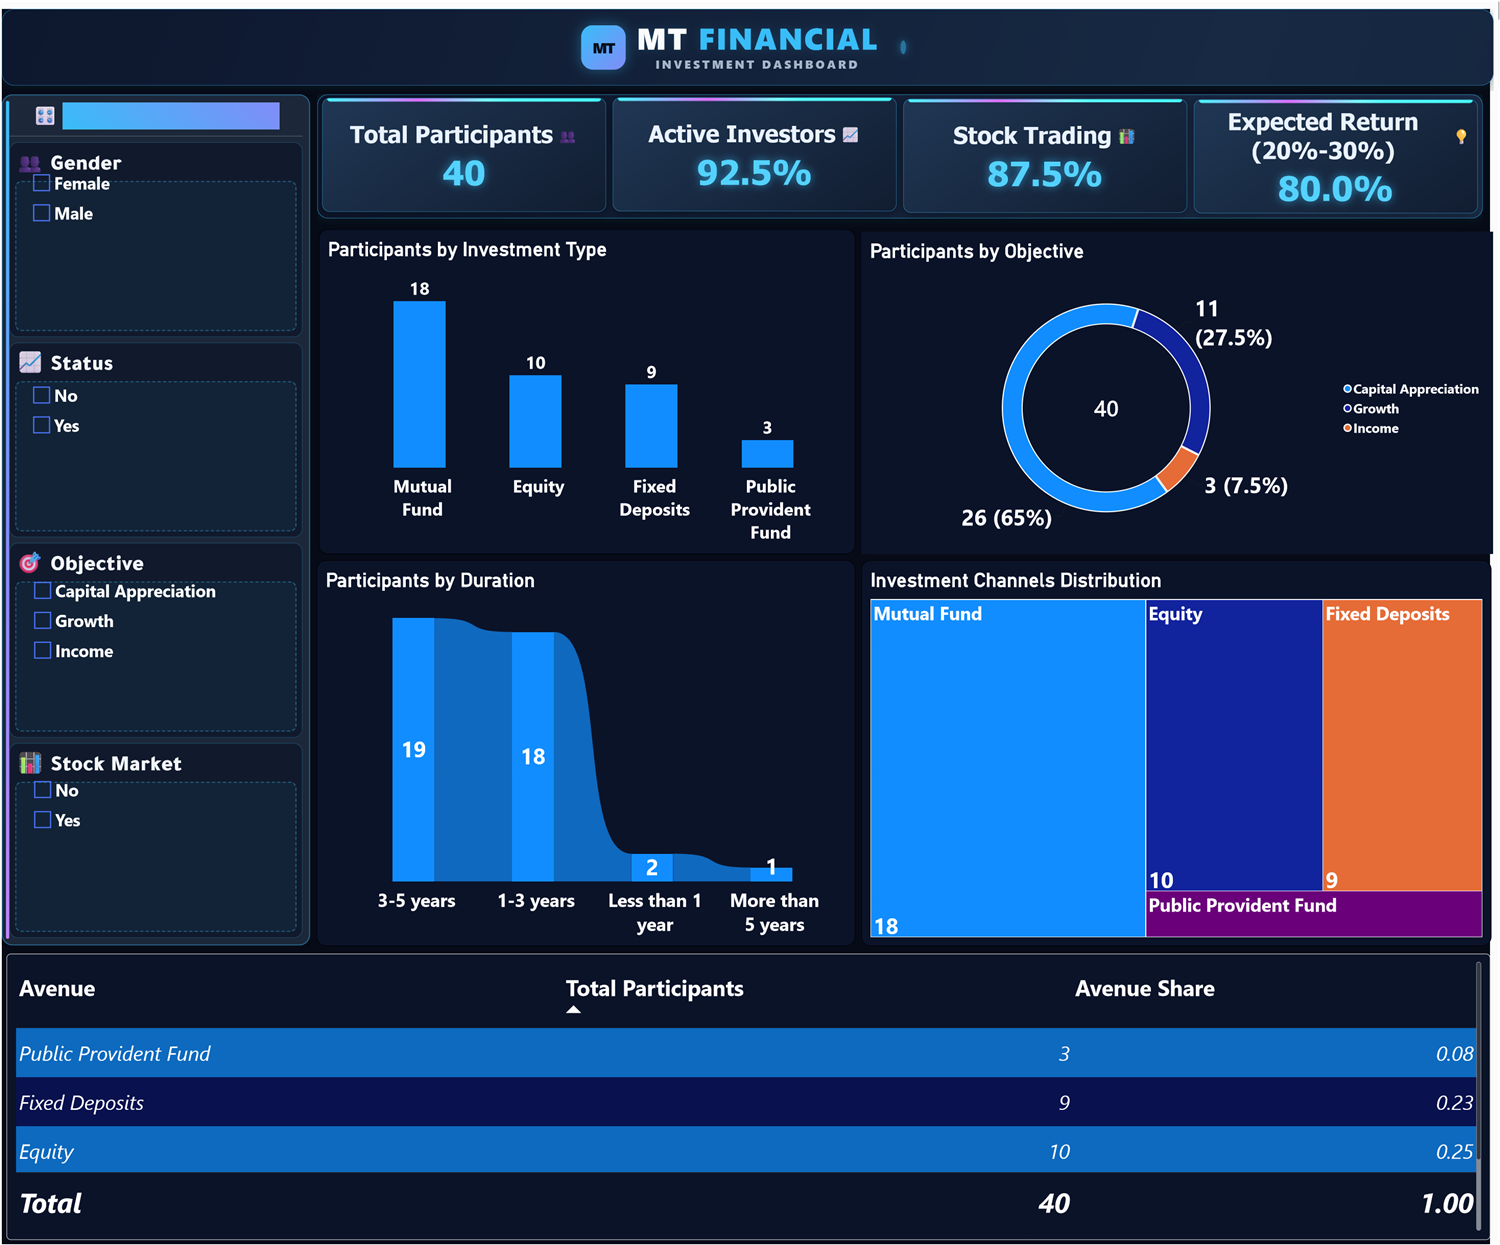

This screenshot's page, from the dashboard's own definition file:
{"tool":"powerbi","page":{"name":"Page 1","canvas":[2767,2300],"ordinal":0},"visuals":[{"type":"htmlContent443BE3AD55E043BF878BED274D3A6855","fields":{"content":["HTML_Summary_Table.Dashboard_Background_HTML"]},"box":[0,0,2767,2300],"z":0},{"type":"htmlContent443BE3AD55E043BF878BED274D3A6855","fields":{"content":["Table.KPI_Banner_HTML"]},"box":[579.7,156.7,2174,317],"z":1000},{"type":"htmlContent443BE3AD55E043BF878BED274D3A6855","fields":{"content":["Table.MT_Header_HTML"]},"box":[0,0,2773.7,181.4],"z":2000},{"type":"tableEx","fields":{"Values":["Finance_data.Avenue","Finance_data.Total Participants","Finance_data.Avenue Share"]},"box":[24.9,1749.5,2727.4,526.3],"z":3000},{"type":"group","id":"g1","title":"Group 1","box":[595.4,419.1,2162.2,1317],"z":4000},{"type":"htmlContent443BE3AD55E043BF878BED274D3A6855","fields":{"content":["HTML_Summary_Table.Vertical_Filters_Panel_HTML"]},"box":[0,156.7,599.3,1594.3],"z":5000},{"type":"slicer","fields":{"Values":["Finance_data.gender"]},"box":[65.5,304.5,515,231.7],"z":6000},{"type":"columnChart","title":"Participants by Investment Type","fields":{"Category":["Finance_data.Avenue"],"Y":["Finance_data.Total Participants"]},"box":[599,419.1,986.4,597],"z":6000,"group":"g1"},{"type":"donutChart","title":"Participants by Objective","fields":{"Category":["Finance_data.Objective"],"Y":["Finance_data.Total Participants"]},"box":[1596.1,422.6,1161.5,593.5],"z":7000,"group":"g1"},{"type":"slicer","fields":{"Values":["Finance_data.Objective"]},"box":[67.6,1052.6,403,250.8],"z":7000},{"type":"ribbonChart","title":"Participants by Duration","fields":{"Category":["Finance_data.Duration"],"Y":["Finance_data.Total Participants"]},"box":[595.4,1026.7,990,709],"z":8000,"group":"g1"},{"type":"slicer","fields":{"Values":["Finance_data.Stock_Marktet"]},"box":[67.6,1418.8,403,250.8],"z":8000},{"type":"slicer","fields":{"Values":["Finance_data.Investment_Avenues"]},"box":[65.5,693.7,389.5,283.2],"z":9000},{"type":"treemap","title":"Investment Channels Distribution","fields":{"Group":["Finance_data.Avenue"],"Values":["Finance_data.Total Participants"]},"box":[1596.1,1026.7,1157.9,709.4],"z":9000,"group":"g1"}]}

Visuals, with their boxes in screenshot pixels (x1, y1, x2, y2), scaled from the page's 2767x2300 canvas onto the 1500x1245 screenshot:
htmlContent443BE3AD55E043BF878BED274D3A6855 - HTML_Summary_Table.Dashboard_Background_HTML: <bbox>0, 0, 1499, 1244</bbox>
htmlContent443BE3AD55E043BF878BED274D3A6855 - Table.KPI_Banner_HTML: <bbox>314, 85, 1493, 256</bbox>
htmlContent443BE3AD55E043BF878BED274D3A6855 - Table.MT_Header_HTML: <bbox>0, 0, 1499, 98</bbox>
tableEx - Finance_data.Avenue x Finance_data.Total Participants: <bbox>13, 947, 1492, 1232</bbox>
"Group 1" group: <bbox>323, 227, 1495, 940</bbox>
htmlContent443BE3AD55E043BF878BED274D3A6855 - HTML_Summary_Table.Vertical_Filters_Panel_HTML: <bbox>0, 85, 325, 948</bbox>
slicer - Finance_data.gender: <bbox>36, 165, 315, 290</bbox>
"Participants by Investment Type" columnChart: <bbox>325, 227, 859, 550</bbox>
"Participants by Objective" donutChart: <bbox>865, 229, 1495, 550</bbox>
slicer - Finance_data.Objective: <bbox>37, 570, 255, 706</bbox>
"Participants by Duration" ribbonChart: <bbox>323, 556, 859, 940</bbox>
slicer - Finance_data.Stock_Marktet: <bbox>37, 768, 255, 904</bbox>
slicer - Finance_data.Investment_Avenues: <bbox>36, 376, 247, 529</bbox>
"Investment Channels Distribution" treemap: <bbox>865, 556, 1493, 940</bbox>
